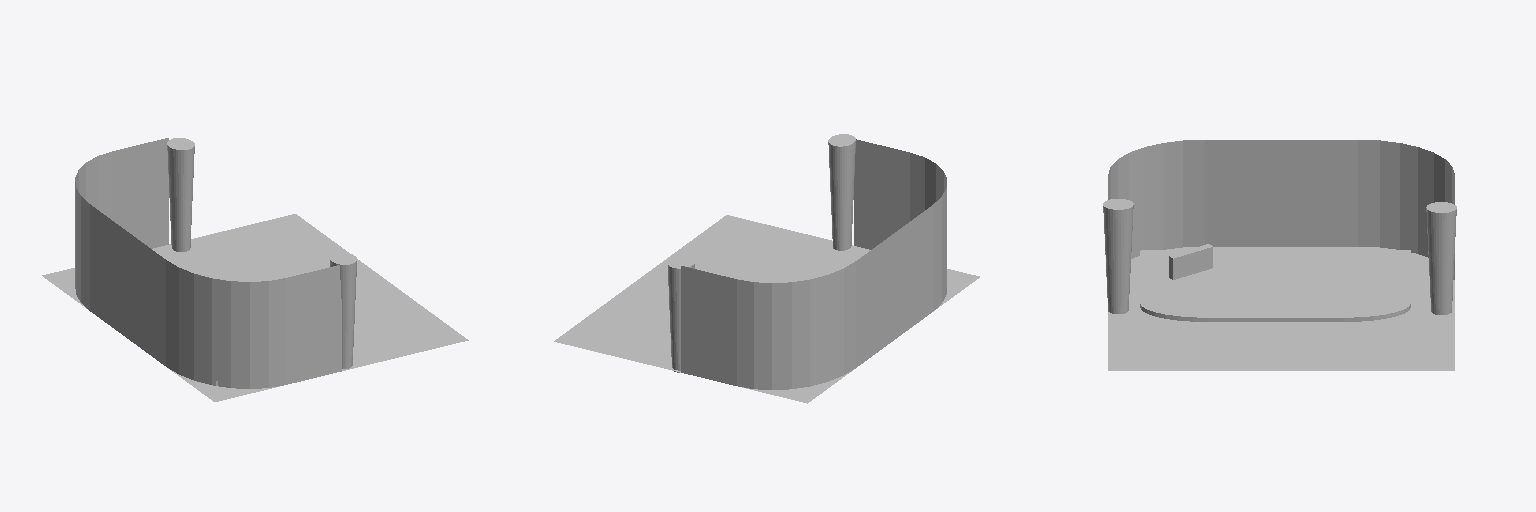
Rendered from studio check.obj.
3 renders of one model, left to right at view 1: azimuth 30°, elevation 25°; view 2: azimuth 150°, elevation 25°; view 3: azimuth 270°, elevation 25°, orthographic.
Parts seen in each view (by area): view 1: Plane.002; view 2: Plane.002; view 3: Plane.002.
Part boxes in pixels (x1,y1,x2,y2): Plane.002: (42, 138, 468, 401); Plane.002: (554, 134, 979, 403); Plane.002: (1103, 140, 1456, 370).
Size of the model in its own units: 72.7 by 30.01 by 87.63.